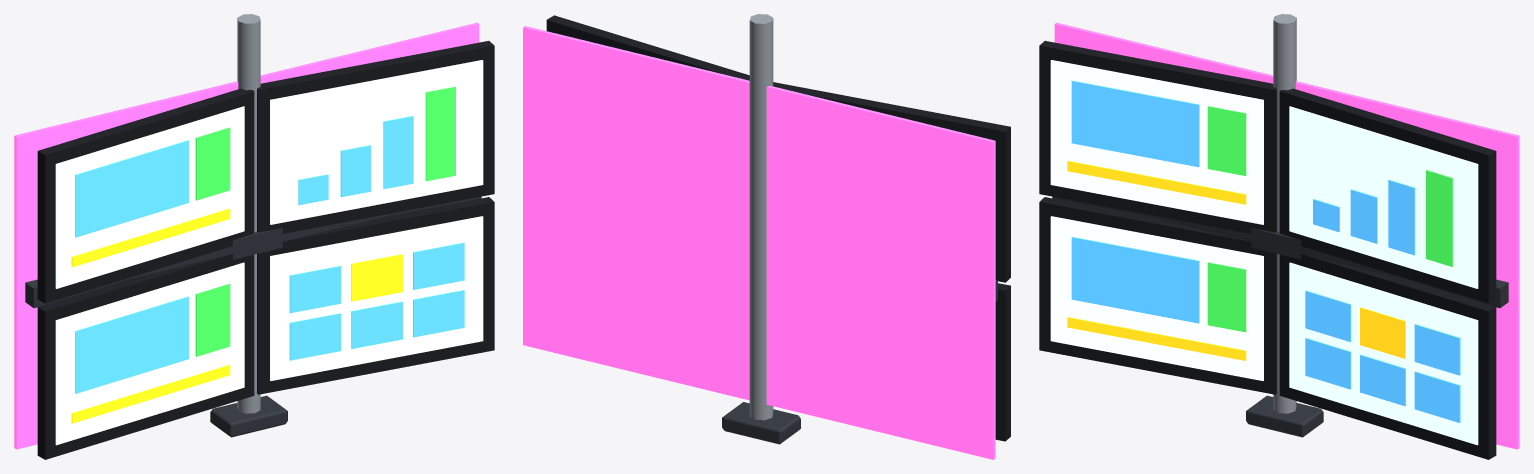
The model's file is station_processing_ausstattung_2_3.glb.
3 views of the same model, side by side, from view 1: azimuth 30°, elevation 25°; view 2: azimuth 150°, elevation 25°; view 3: azimuth 330°, elevation 25° (orthographic).
Visible parts, largest first — view 1: station_processing_ausstattung_2_3; view 2: station_processing_ausstattung_2_3; view 3: station_processing_ausstattung_2_3.
Part boxes in pixels (x1,y1,x2,y2): station_processing_ausstattung_2_3: [14, 14, 494, 459]; station_processing_ausstattung_2_3: [523, 14, 1010, 459]; station_processing_ausstattung_2_3: [1039, 14, 1519, 459].
Bounding box in the file's own units: 1.24 × 1.04 × 0.1463.
